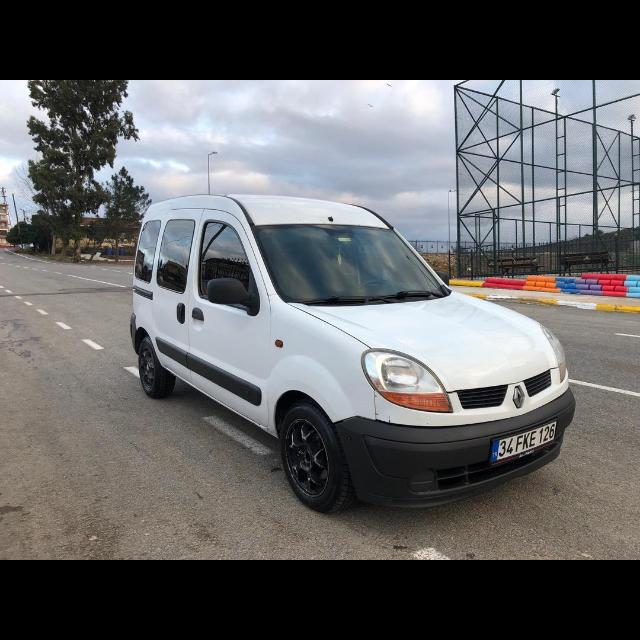Plaka: (490, 422, 556, 463)
